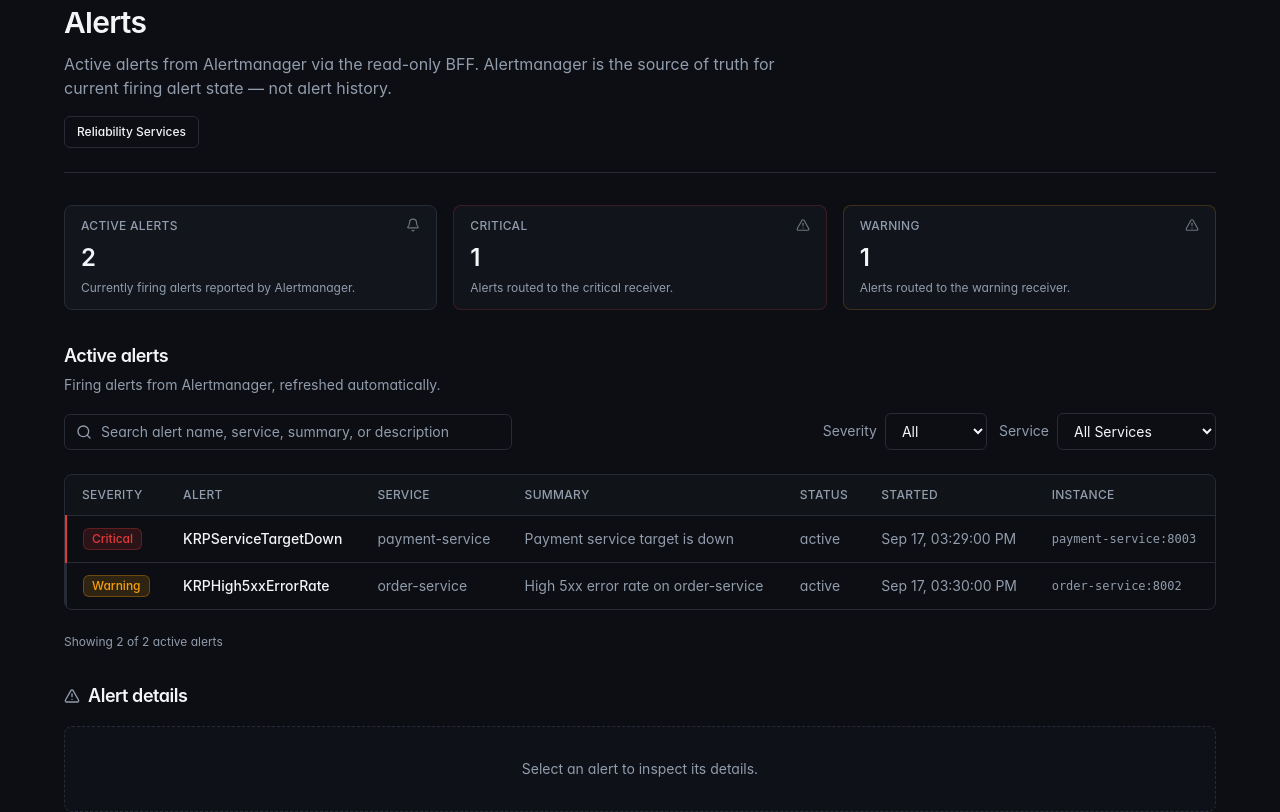
Scenario: AlertsPage › renders labels and annotations in alert details
The width and height of the screenshot is (1280, 812).
(page scrolled)
Click the text "KRPServiceTargetDown" at (264, 539), box [167, 515, 361, 562]
(page scrolled)
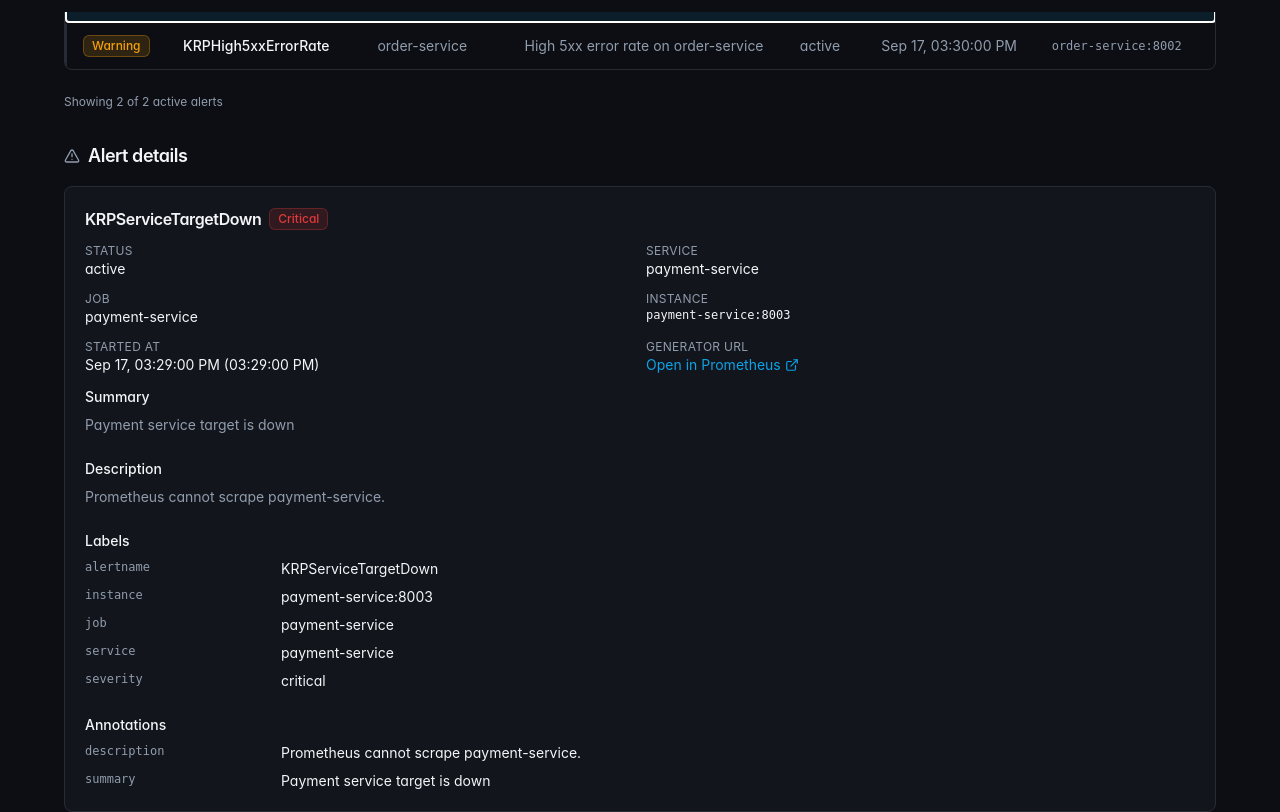
expect the heading "Labels" is shown: met, box [85, 532, 130, 549]
expect the heading "Annotations" is shown: met, box [85, 716, 166, 733]
expect the text "alertname" is shown: met, box [85, 560, 150, 574]
